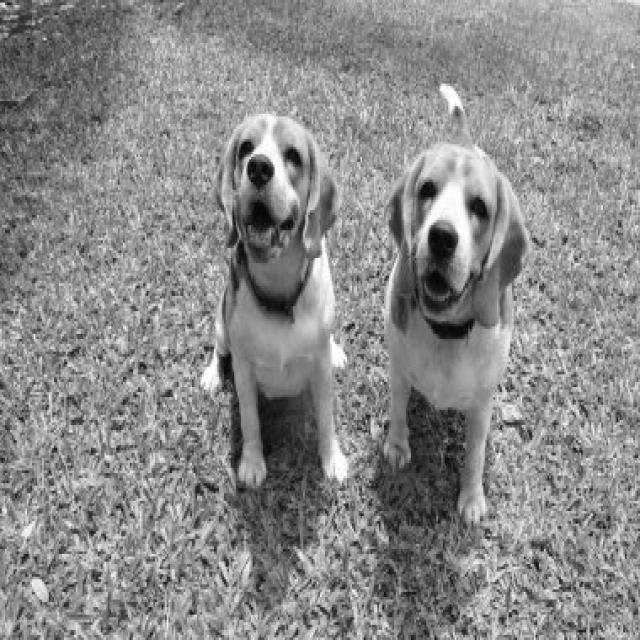Animal: (384, 84, 531, 524), (201, 115, 348, 487)
